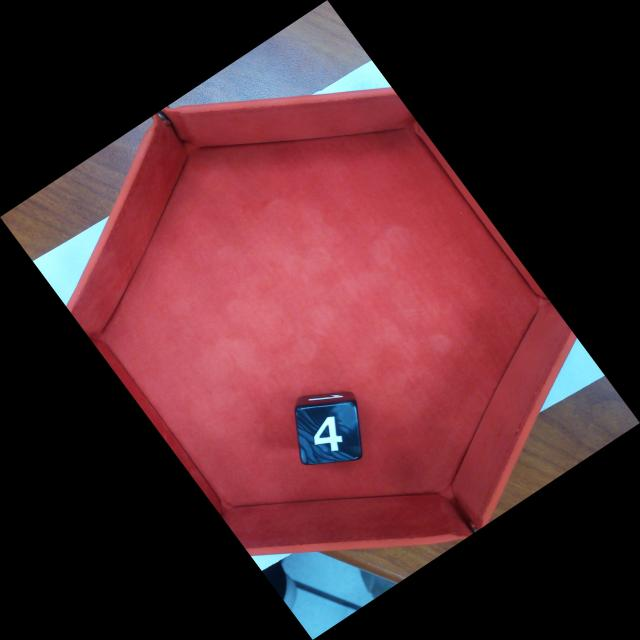dice: (297, 402, 361, 463)
